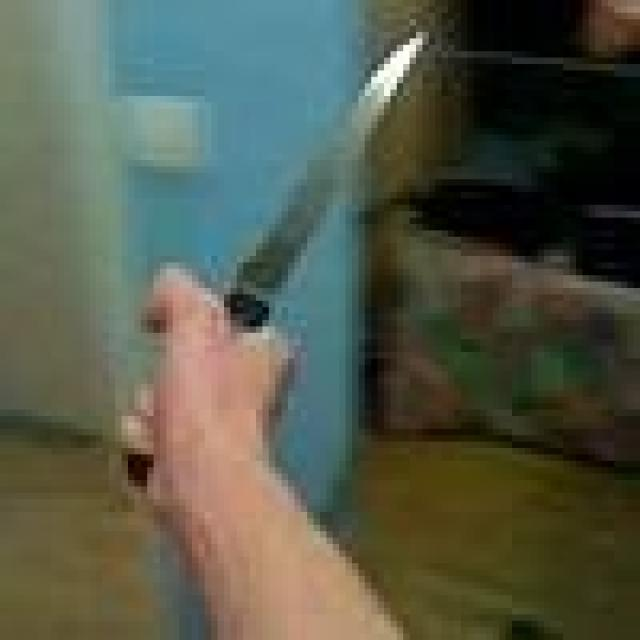senjata_tajam: (223, 25, 434, 328)
